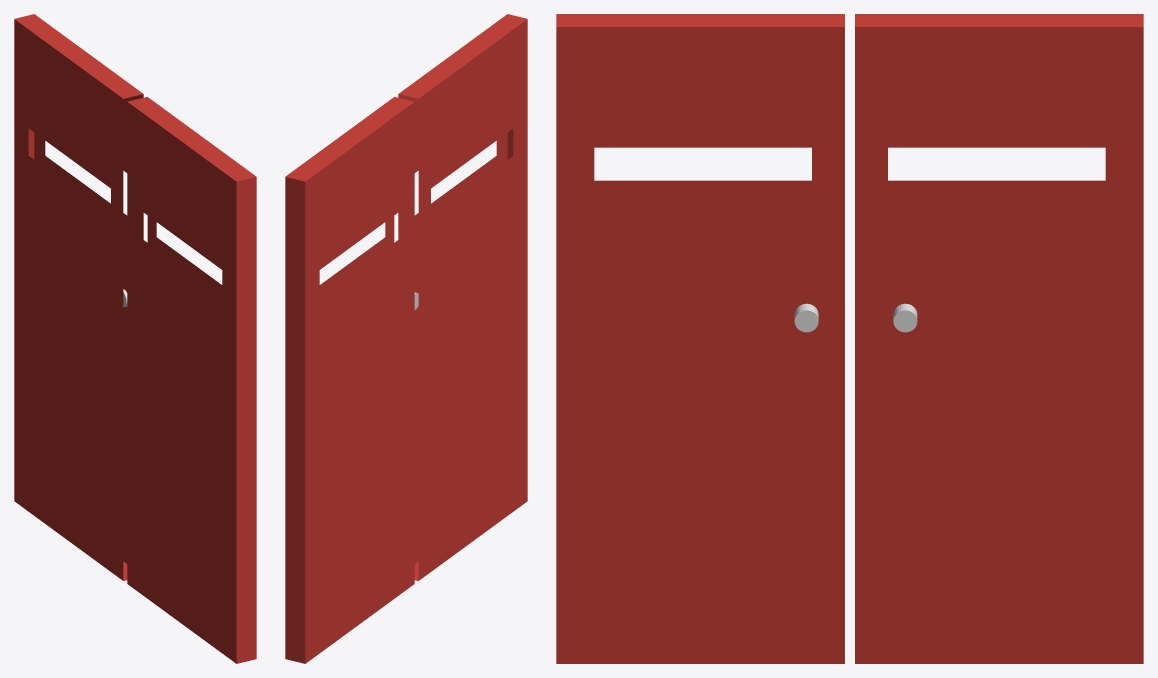
Rendered from PintuRumahSakitMerah.fbx.
3 renders of one model, left to right at view 1: azimuth 30°, elevation 25°; view 2: azimuth 150°, elevation 25°; view 3: azimuth 270°, elevation 25°, orthographic. The views are drawn at different scales.
Visible parts, largest first — view 1: Cube; view 2: Cube; view 3: Cube.
Boxes of the visible parts, x1,y1,x2,y2 form: Cube: [14, 14, 256, 663]; Cube: [285, 14, 527, 663]; Cube: [556, 14, 1143, 663].
Bounding box in the file's own units: 32.85 × 484 × 404.
